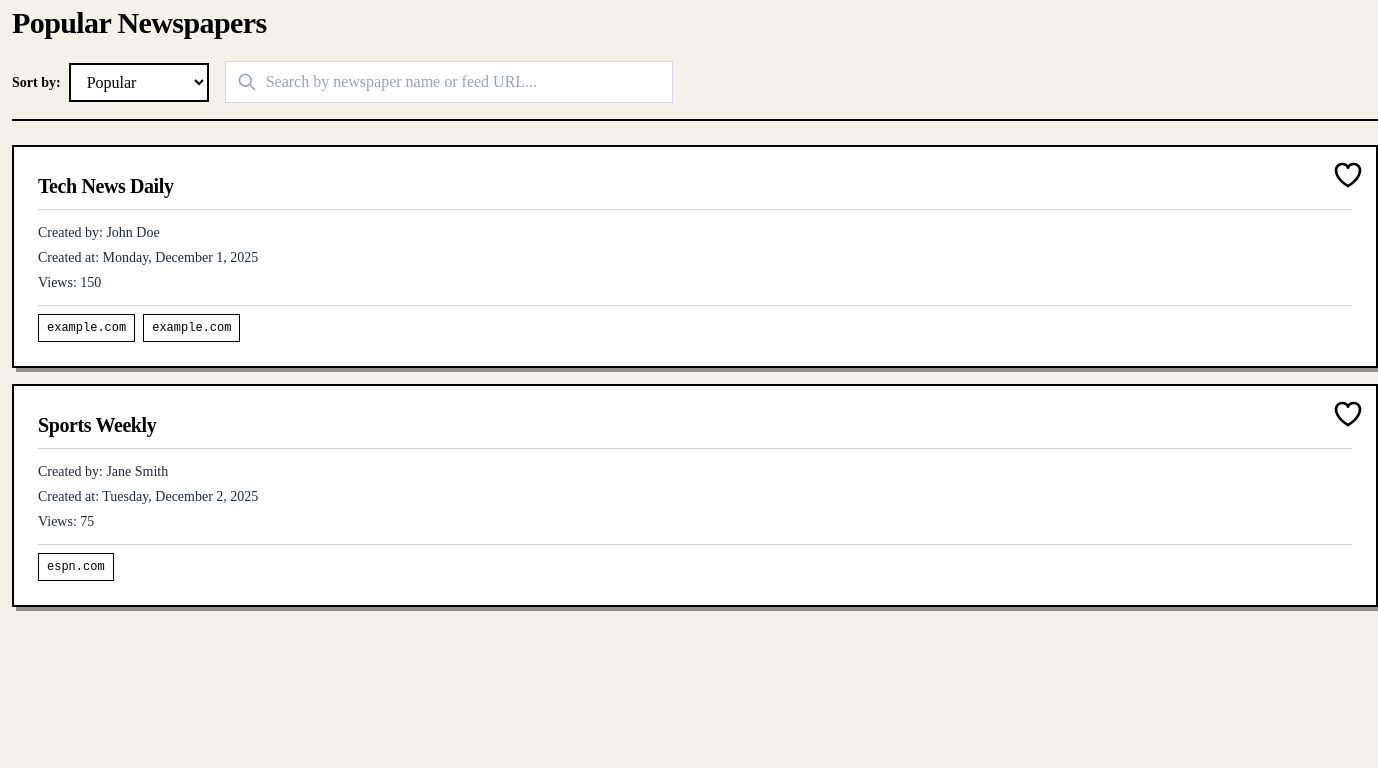
PopularNewspapers › Search Filter › clears search when clear button is clicked
Check: the heading "Tech News Daily" is shown, box x1=38 y1=171 x2=1352 y2=210
Search for "tech"
Type "tech" into the field with placeholder "Search by newspaper name or feed URL..." at point(449, 82), box x1=225 y1=61 x2=673 y2=103
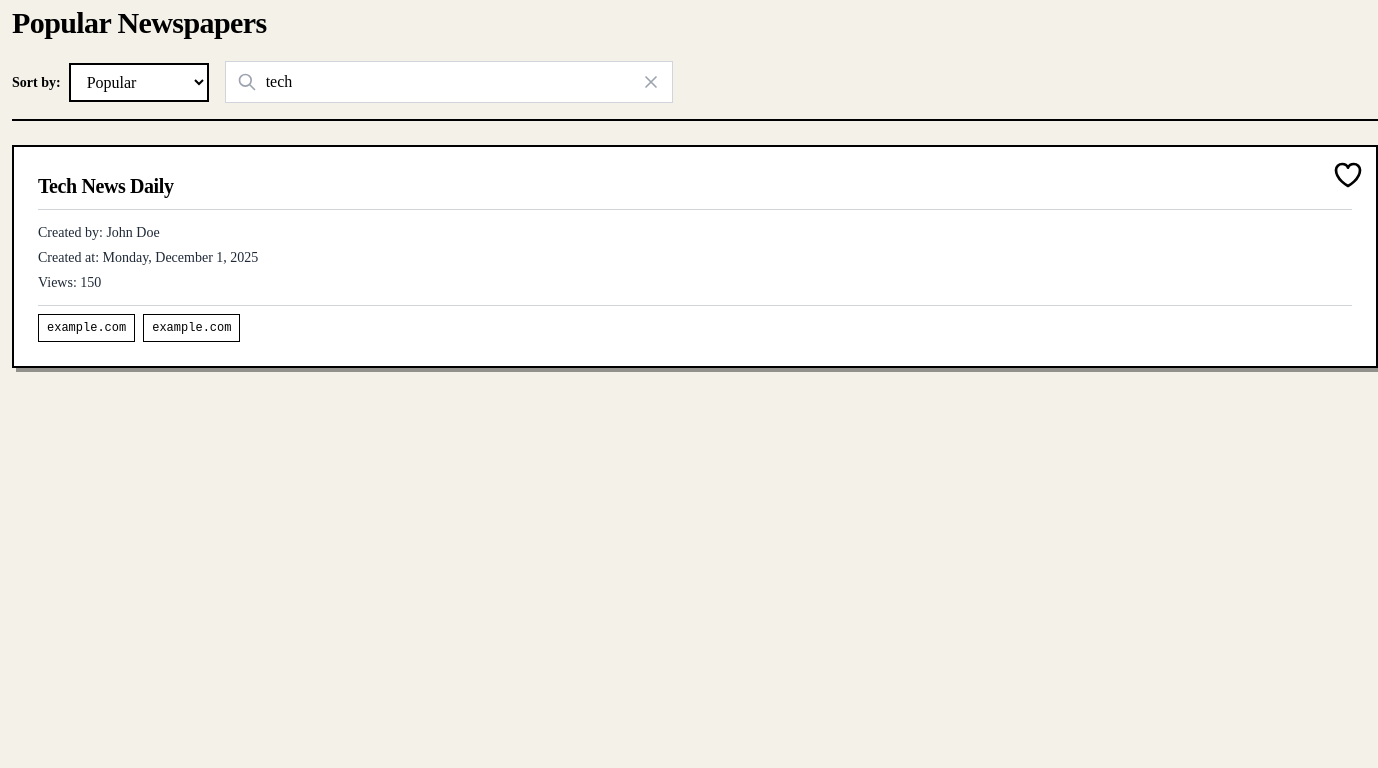
Check: the heading "Sports Weekly" is gone
Click clear button
Click the button named "clear search" at point(651, 82), box x1=641 y1=72 x2=661 y2=92
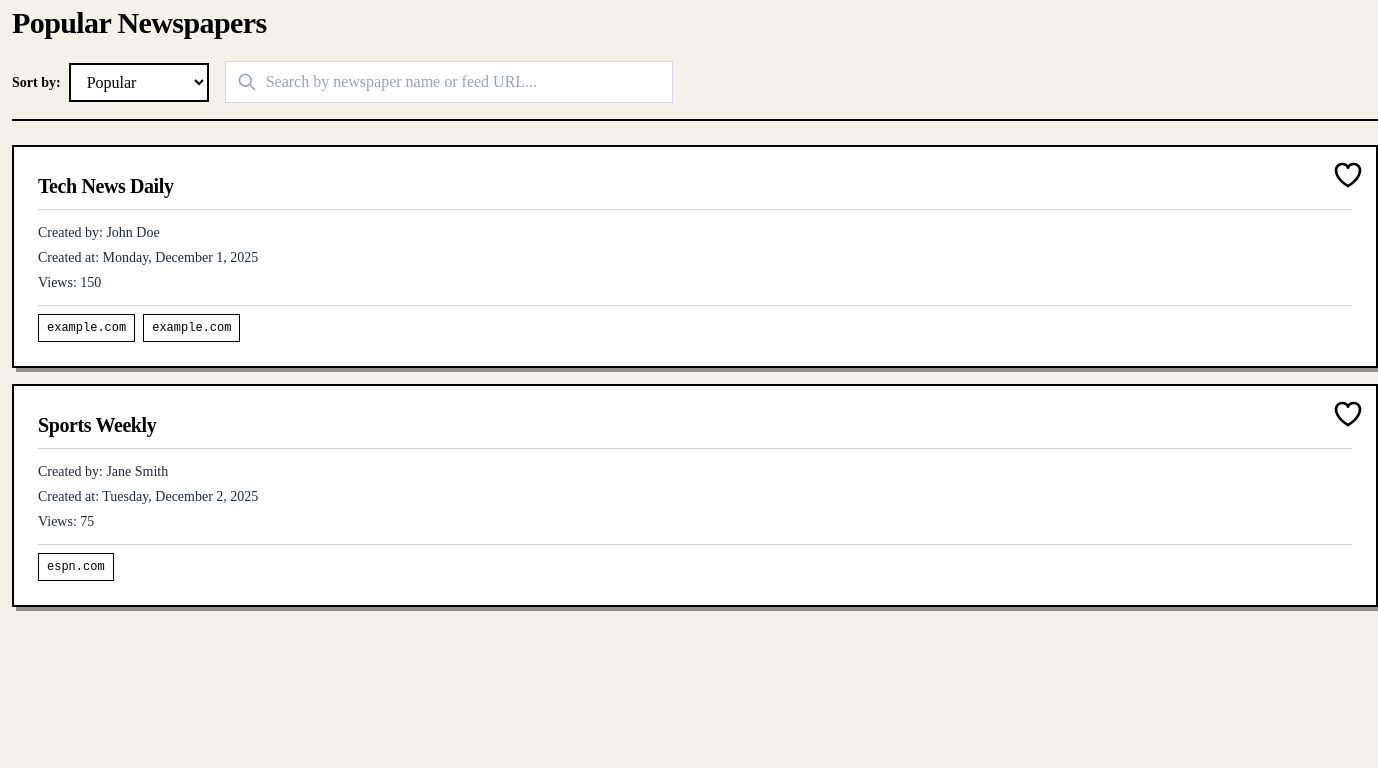
Check: the heading "Tech News Daily" is shown, box x1=38 y1=171 x2=1352 y2=210
Check: the heading "Sports Weekly" is shown, box x1=38 y1=410 x2=1352 y2=449
